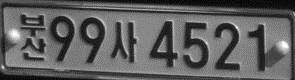1: (244, 22, 272, 71)
2: (213, 21, 241, 71)
4: (149, 20, 178, 67)
5: (182, 20, 208, 69)
9: (48, 14, 76, 63), (78, 15, 105, 64)
부산_V: (20, 12, 47, 61)
사: (109, 20, 137, 63)
